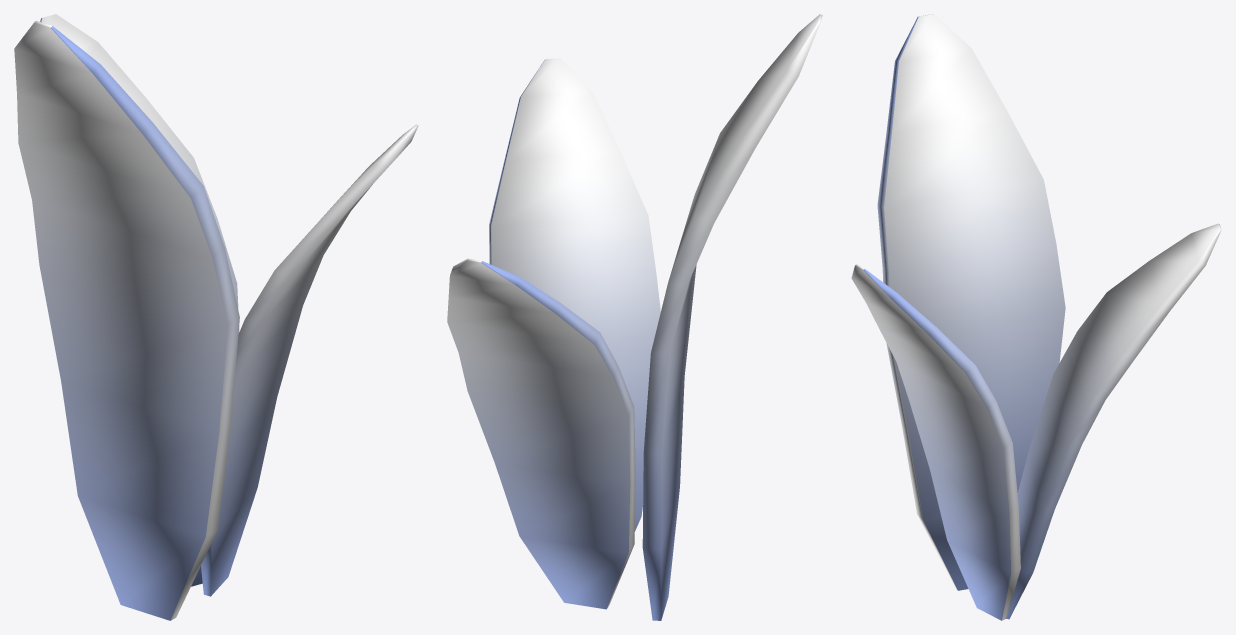
The model's file is Grass012.fbx.
The picture shows the model from 3 angles, left to right: view 1: azimuth 30°, elevation 25°; view 2: azimuth 150°, elevation 25°; view 3: azimuth 270°, elevation 25°; orthographic projection. The views are drawn at different scales.
Parts seen in each view (by area): view 1: Grass012; view 2: Grass012; view 3: Grass012.
Part boxes in pixels (<box>): Grass012: <box>14,14,418,620</box>; Grass012: <box>447,14,822,620</box>; Grass012: <box>851,14,1221,620</box>.
Bounding box in the file's own units: 43.03 × 75.82 × 49.16.
